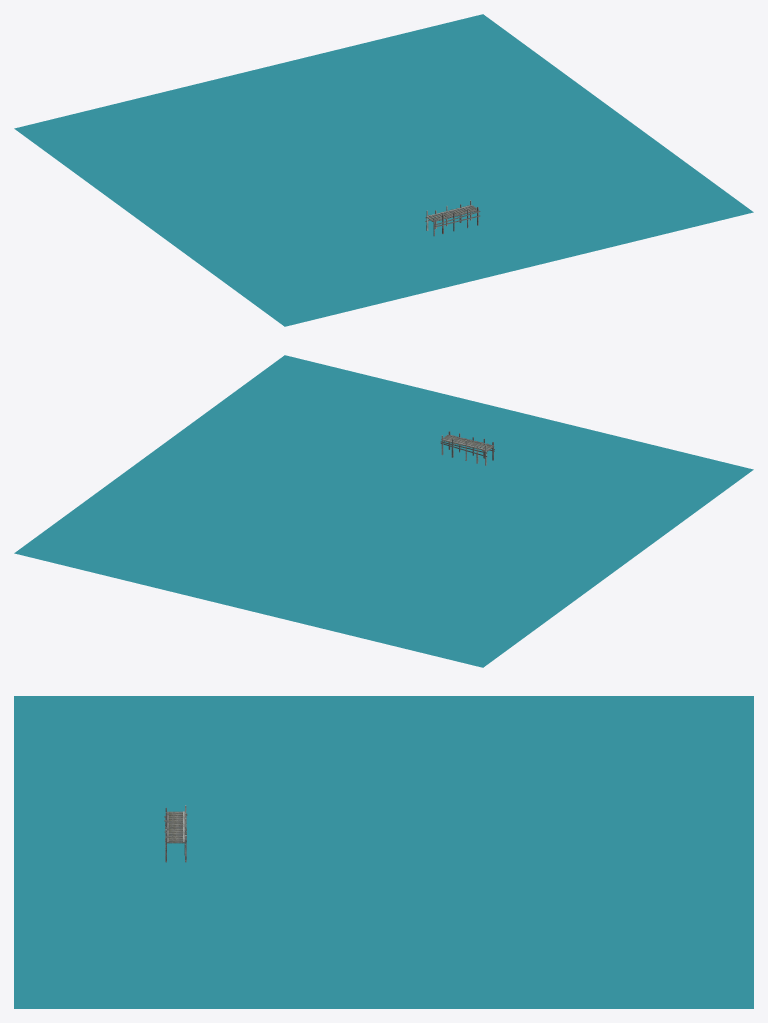
Rendered from coast-1-0.glb.
3 renders of one model, top to bottom at view 1: azimuth 30°, elevation 25°; view 2: azimuth 150°, elevation 25°; view 3: azimuth 270°, elevation 25°, orthographic. The views are drawn at different scales.
Parts seen in each view (by area): view 1: coast-1-0; view 2: coast-1-0; view 3: coast-1-0.
Part boxes in pixels (<box>): coast-1-0: <box>14,14,753,326</box>; coast-1-0: <box>14,355,753,667</box>; coast-1-0: <box>14,696,753,1008</box>.
Bounding box in the file's own units: 128 × 6.71 × 128.
Materials: 3 (3 with a texture image).
